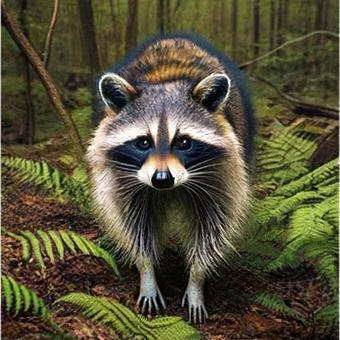raccoon: (71, 24, 268, 291)
